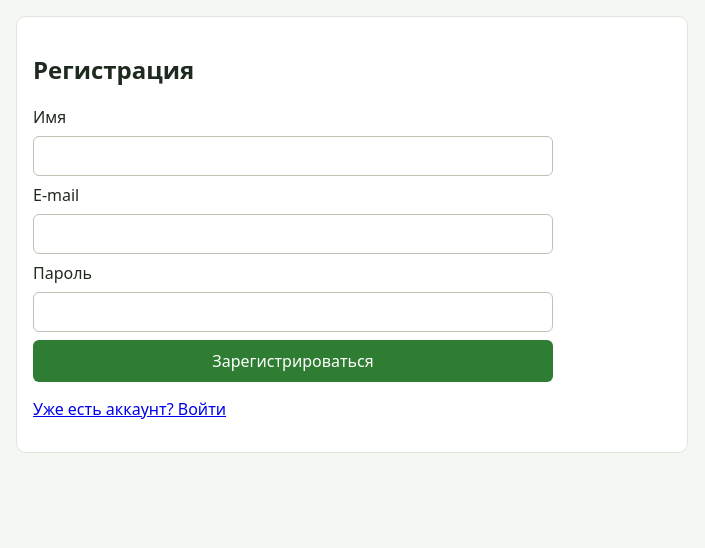
Test case: RegisterPage › сервер ответил 400 с details: ошибка поля email видна на странице
Type "Айгерим" into the field labelled "Имя" at (293, 156), box top-left (33, 136), bottom-right (553, 176)
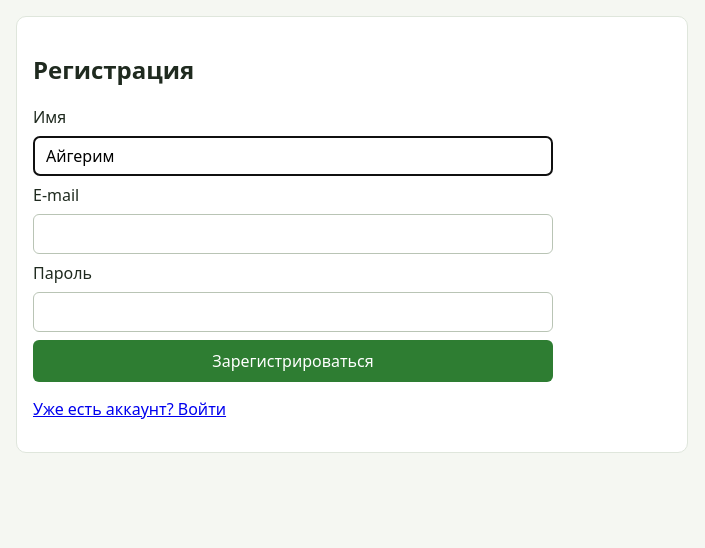
Type "aigerim@agro.kz" into the field labelled "E-mail" at (293, 234), box top-left (33, 214), bottom-right (553, 254)
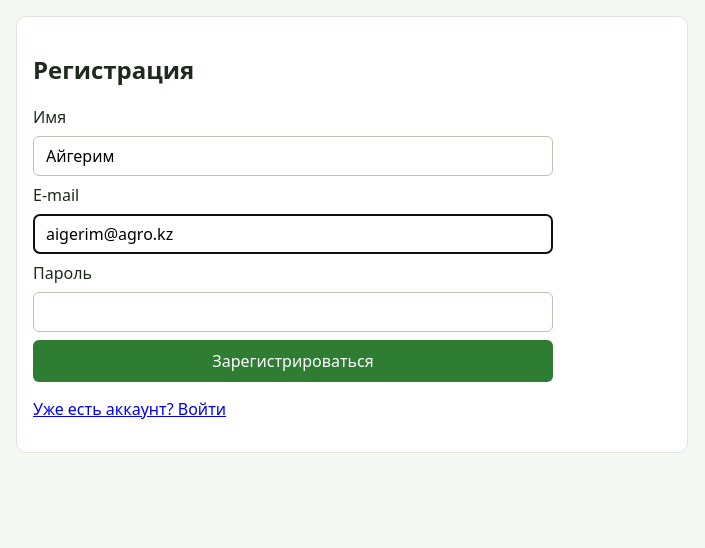
Type "secret123" into the password field labelled "Пароль" at (293, 312), box top-left (33, 292), bottom-right (553, 332)
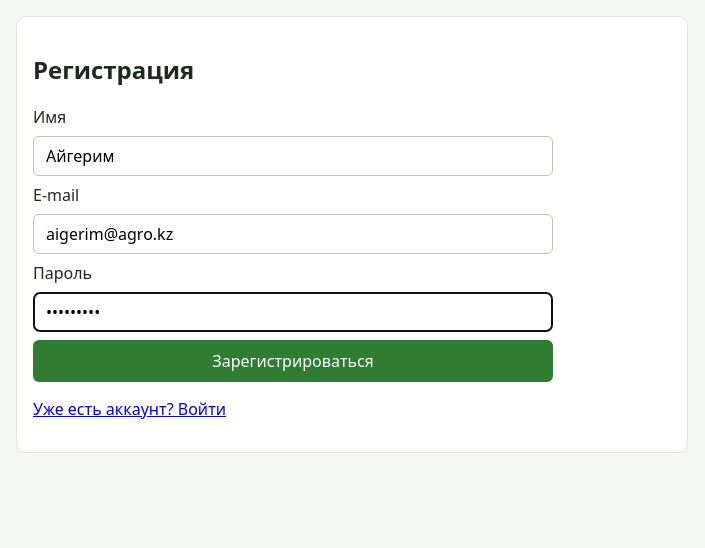
Click the button "Зарегистрироваться" at (293, 361), box top-left (33, 340), bottom-right (553, 382)
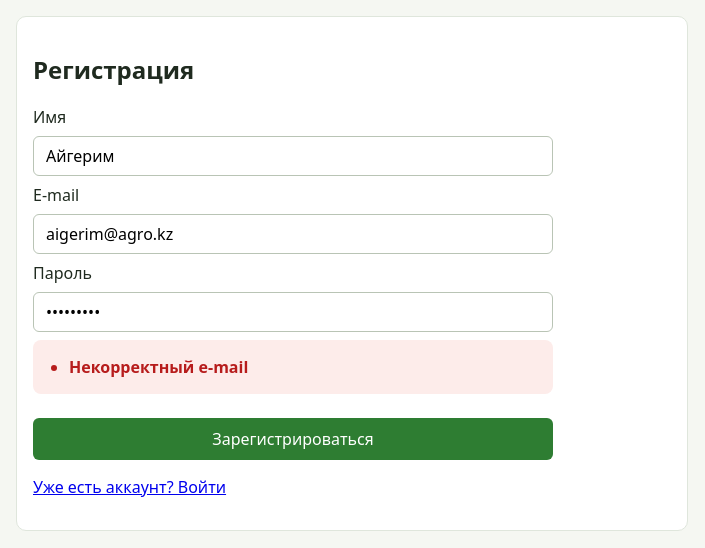
Check: the message reads "Некорректный e-mail", box top-left (69, 356), bottom-right (248, 378)
